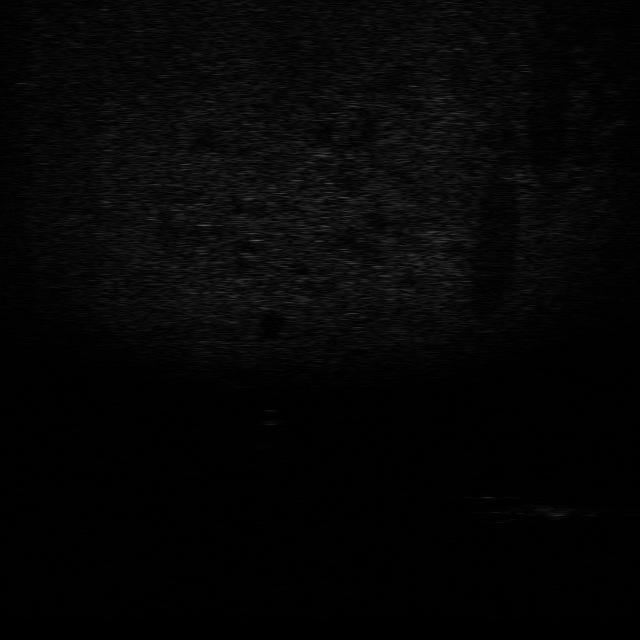ball: (251, 408, 290, 428)
metal bucket: (525, 500, 587, 522)
tyre: (466, 495, 532, 525)
